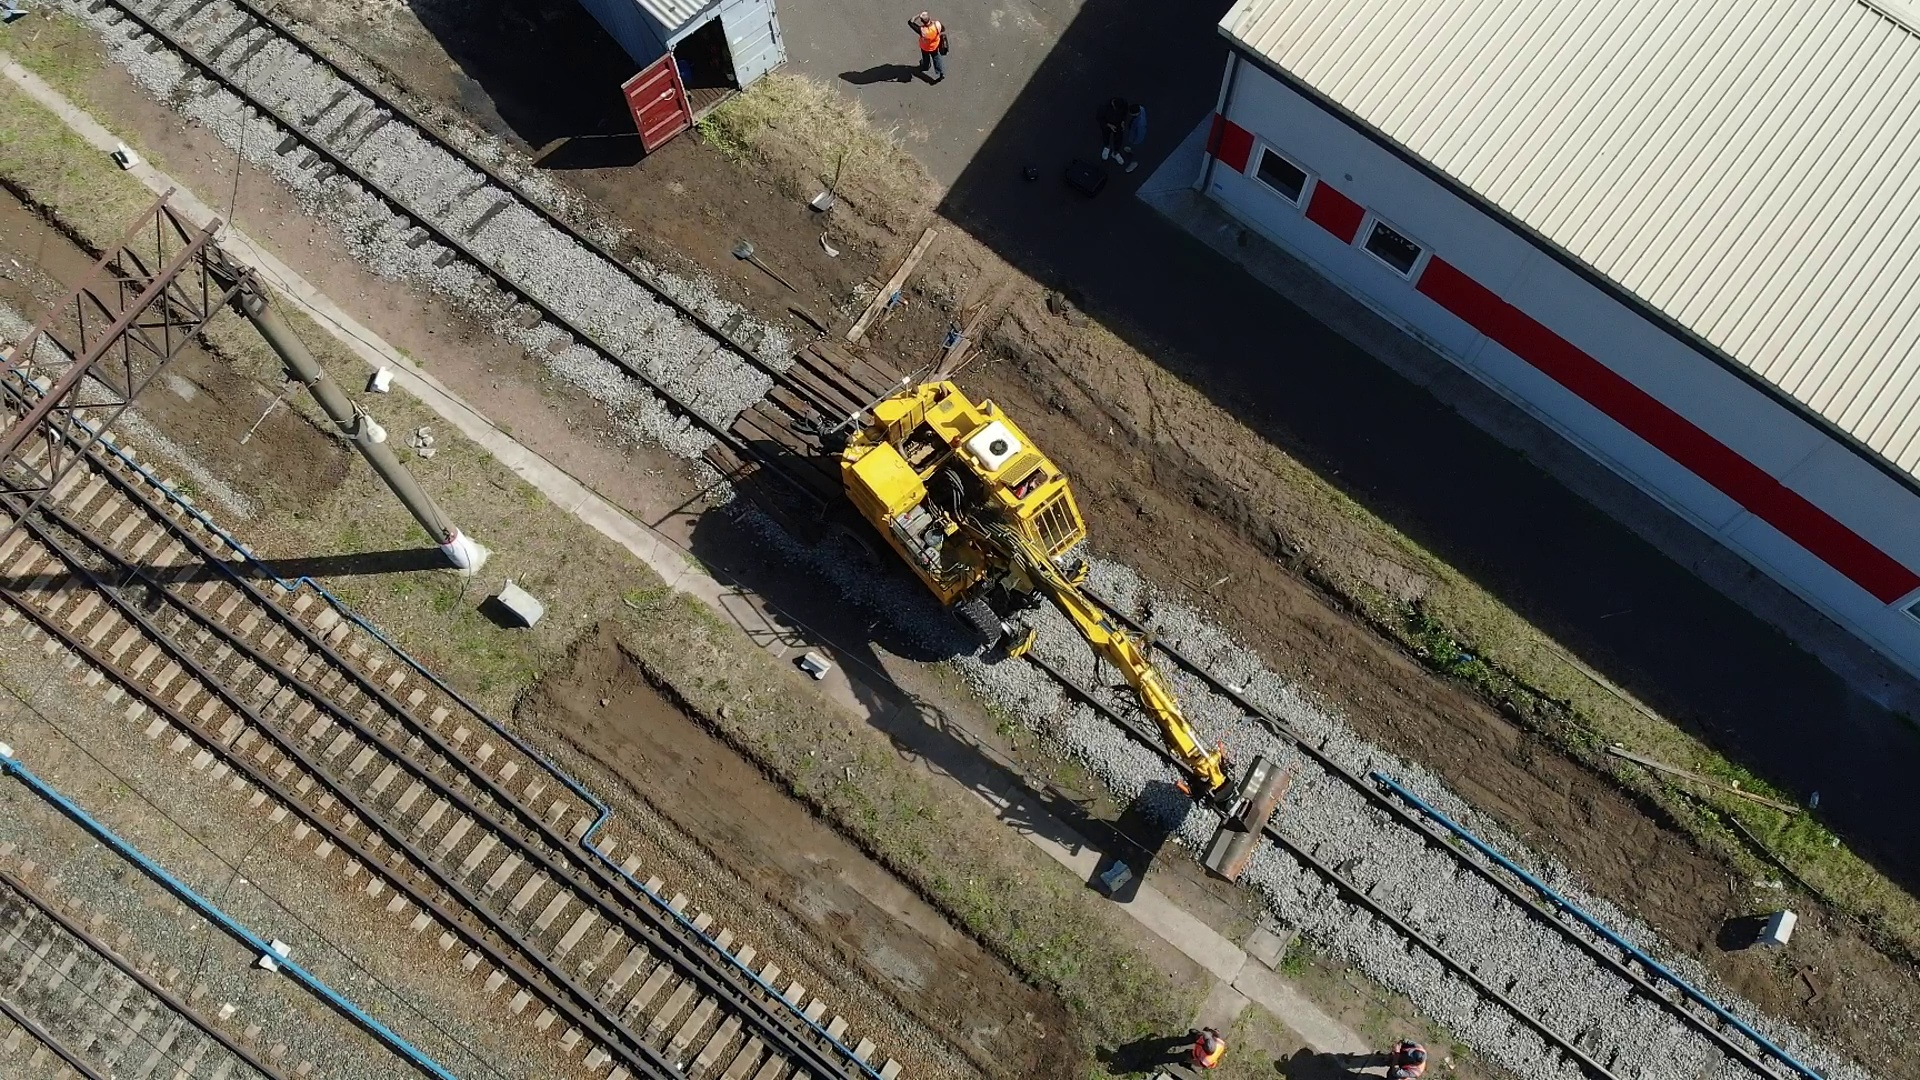kjtv: (835, 377, 1116, 641)
